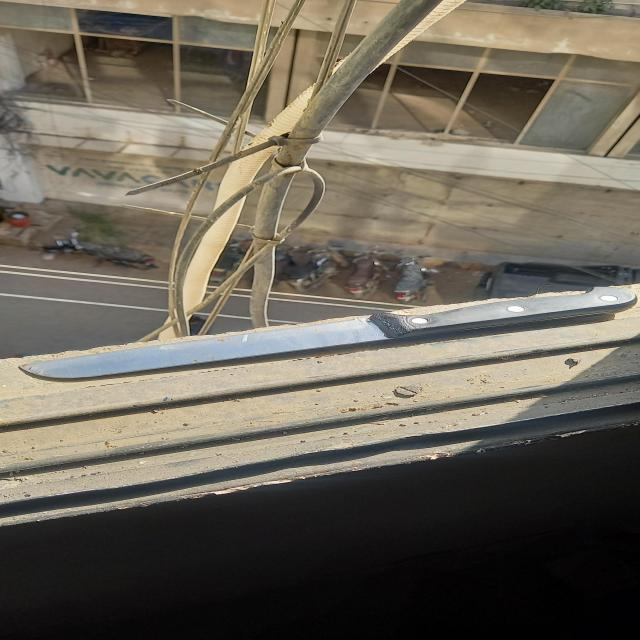weapon: (18, 287, 639, 379)
